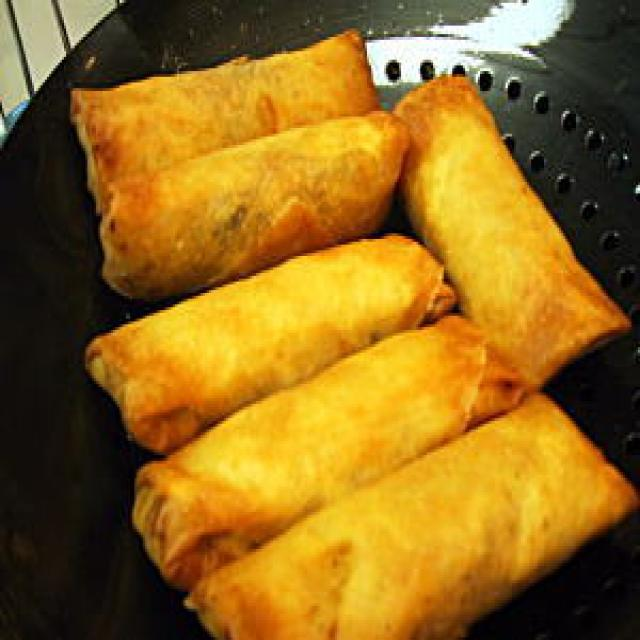鸡蛋料理: (113, 54, 640, 640)
